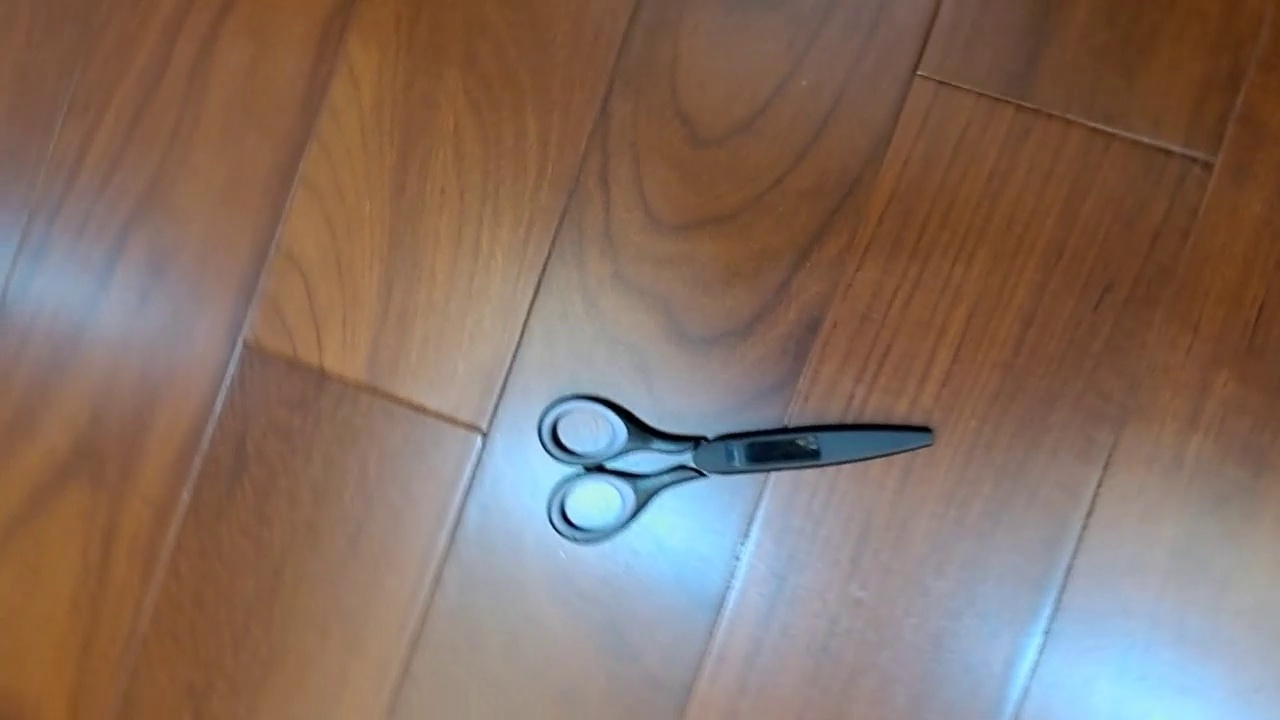scissors: (537, 391, 936, 548)
